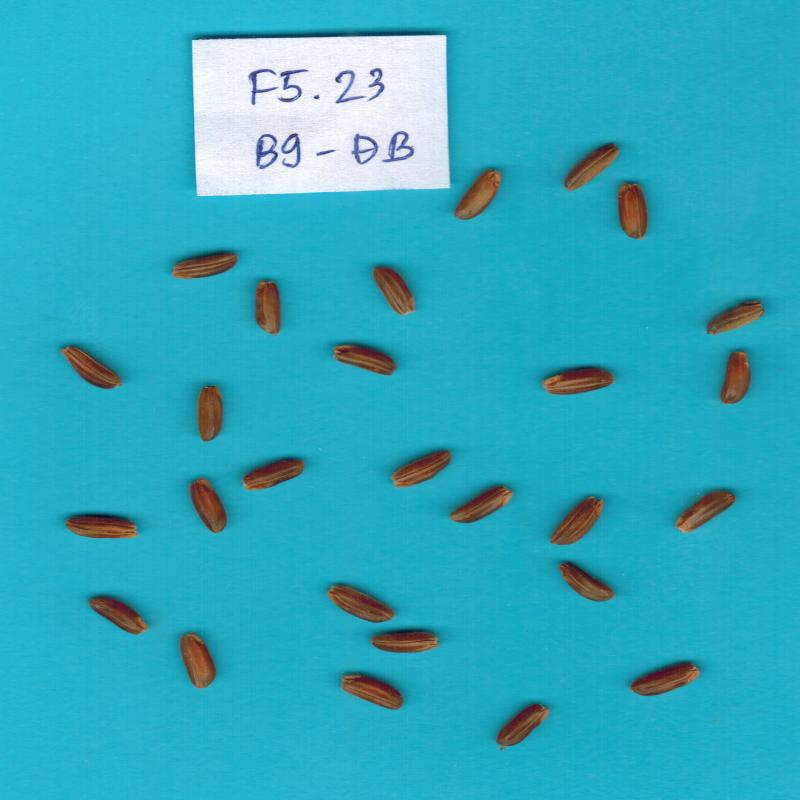Rice: (564, 143, 620, 191), (60, 346, 122, 389), (326, 585, 395, 623), (550, 496, 603, 545), (675, 491, 736, 533), (454, 169, 501, 220), (450, 486, 513, 524), (496, 703, 550, 746), (88, 597, 149, 635), (631, 663, 700, 696), (341, 675, 403, 710), (189, 477, 227, 534), (391, 451, 451, 487), (559, 562, 614, 601), (180, 632, 216, 689), (372, 267, 414, 315), (542, 368, 615, 395), (706, 301, 764, 334), (333, 345, 396, 375), (242, 460, 305, 490), (618, 183, 648, 239), (720, 350, 751, 404), (65, 516, 138, 538), (172, 254, 238, 278), (197, 385, 223, 443), (370, 632, 439, 653), (255, 280, 280, 335)
